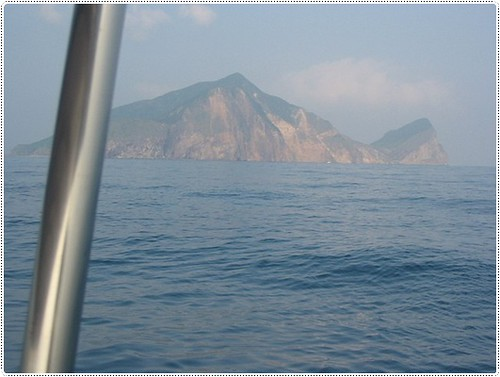turtleIsland: (1, 71, 450, 171)
